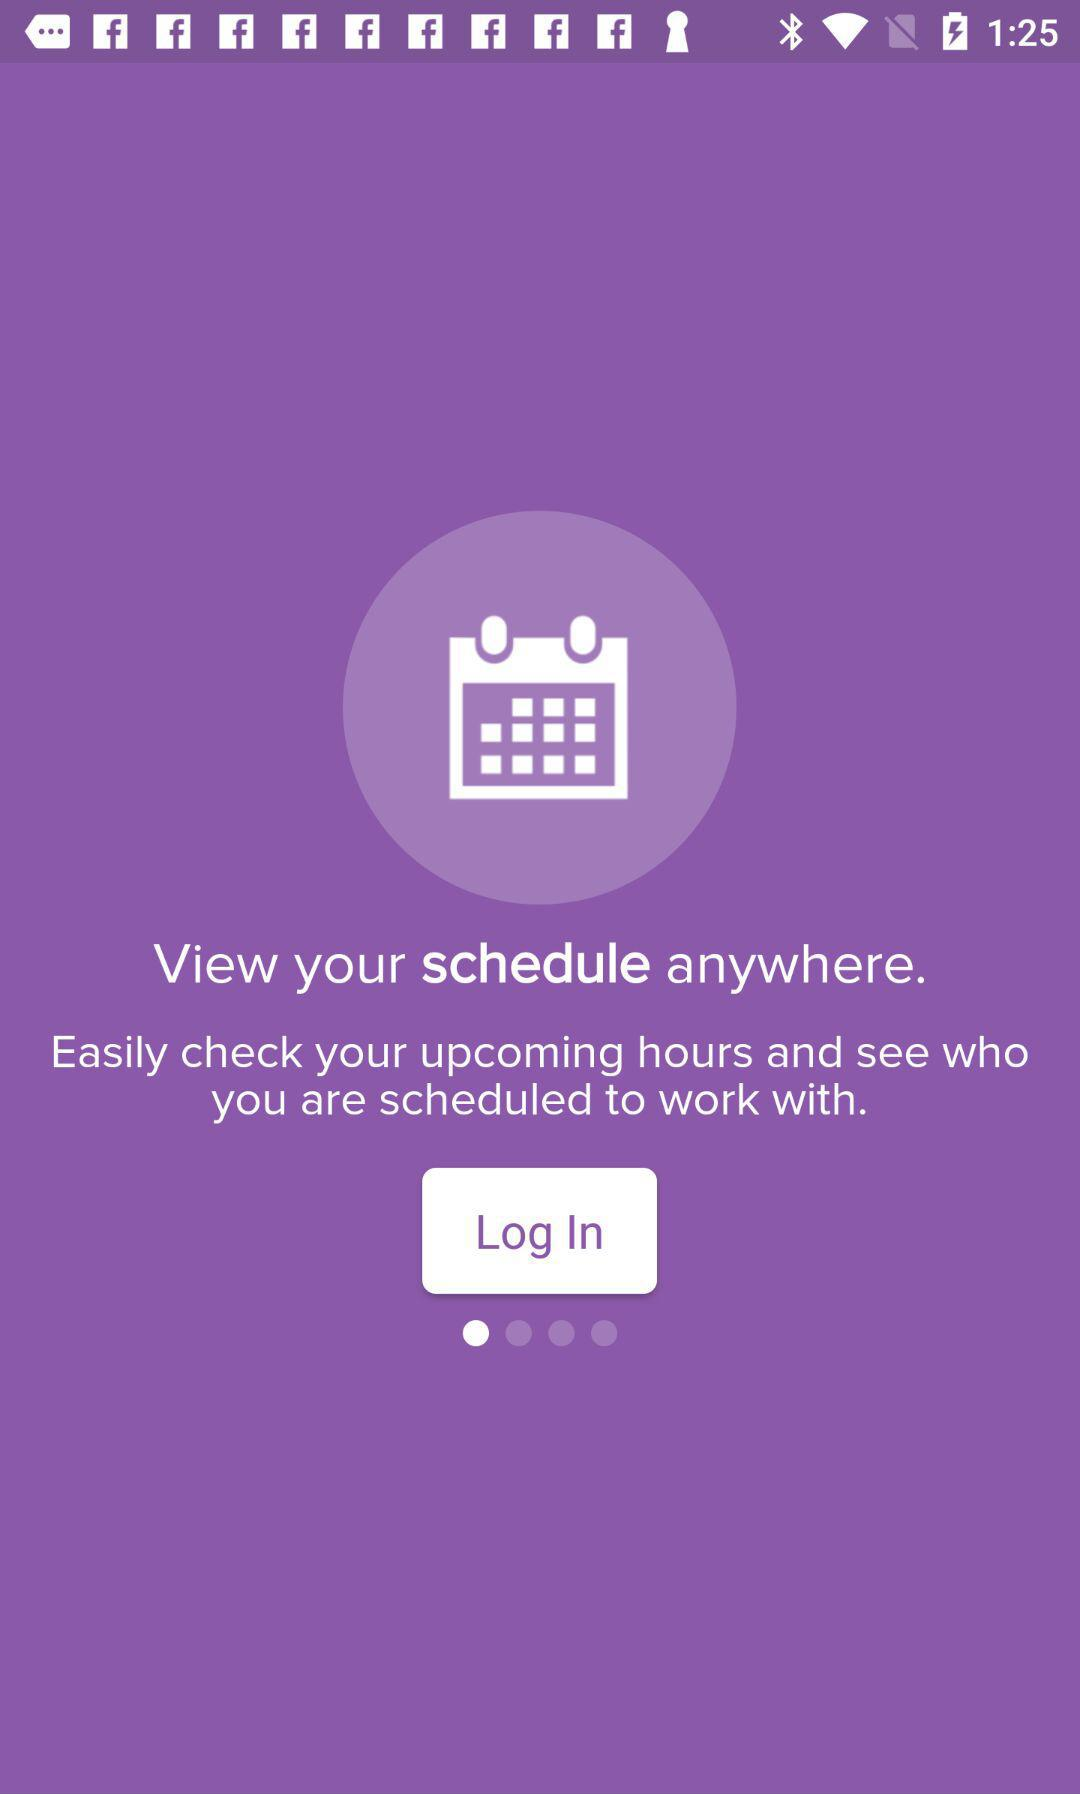Image: (342, 510, 739, 906)
PageIndicator: (461, 1319, 620, 1349)
Text: (53, 1033, 1030, 1126), (152, 941, 924, 997)
TextButton: (421, 1167, 659, 1296)
UpperTaskBar: (1, 1, 1080, 64)
